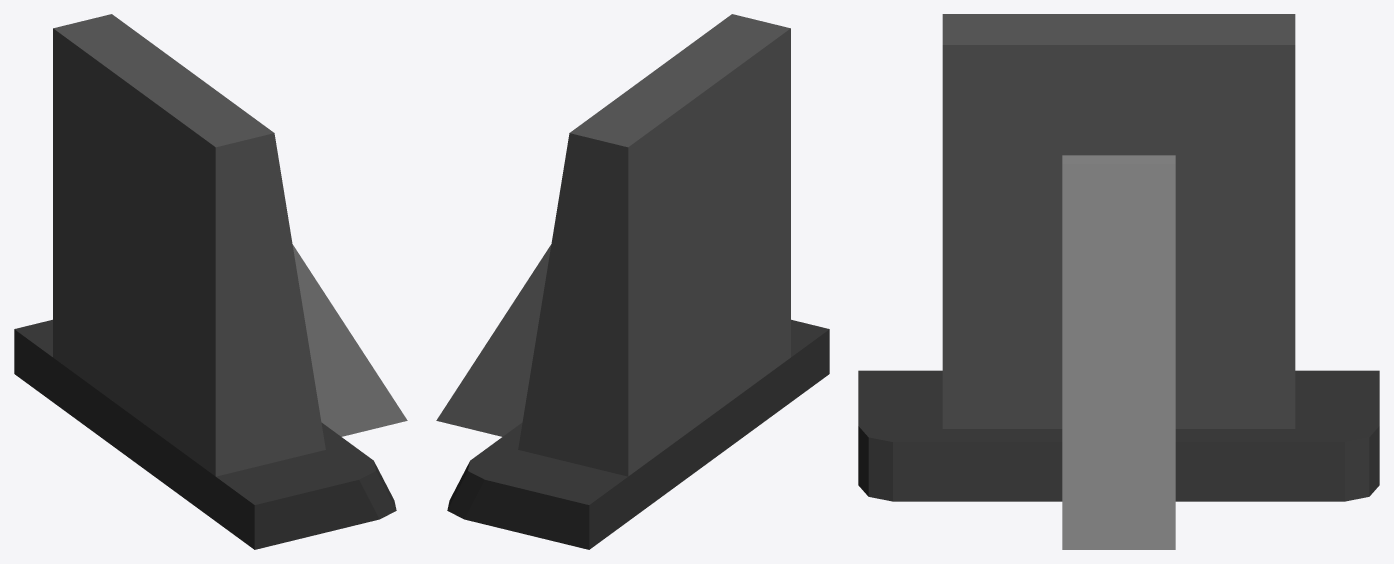
File: books.glb
3 views of the same model, side by side, from view 1: azimuth 30°, elevation 25°; view 2: azimuth 150°, elevation 25°; view 3: azimuth 270°, elevation 25° (orthographic). The views are drawn at different scales.
Parts seen in each view (by area): view 1: Book_St; view 2: Book_St; view 3: Book_St.
Part boxes in pixels (x1,y1,x2,y2): Book_St: [14, 14, 407, 549]; Book_St: [436, 14, 829, 549]; Book_St: [858, 14, 1379, 549].
Bounding box in the file's own units: 0.1288 × 0.1863 × 0.2171.
1 material, 1 textured.
